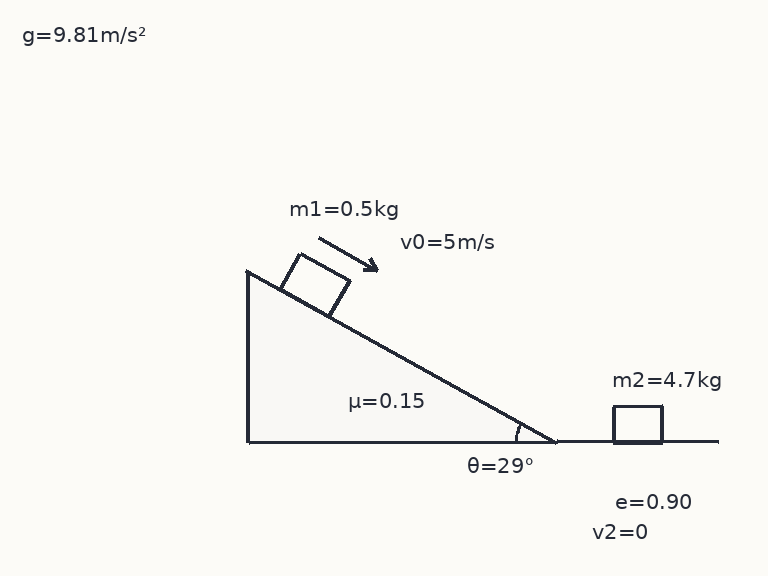block: (278, 251, 350, 318), (611, 404, 663, 444)
ramp: (246, 269, 558, 444)
